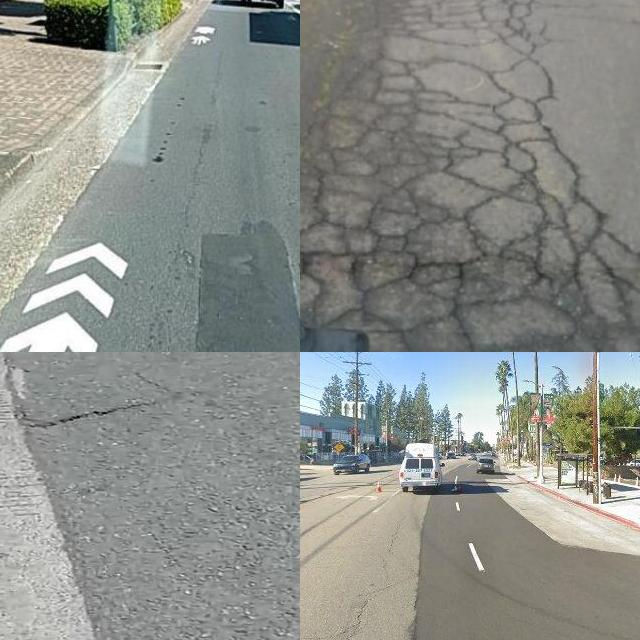Retak Buaya: (300, 0, 640, 352)
Sambungan: (411, 484, 640, 640), (192, 219, 300, 352)
